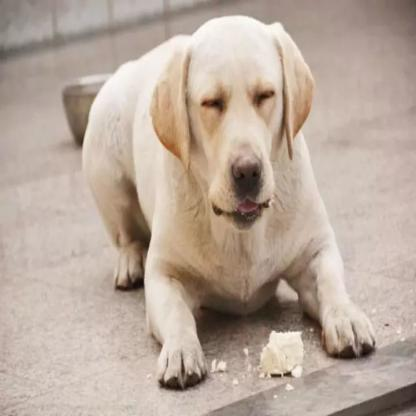dog: (82, 15, 375, 385)
